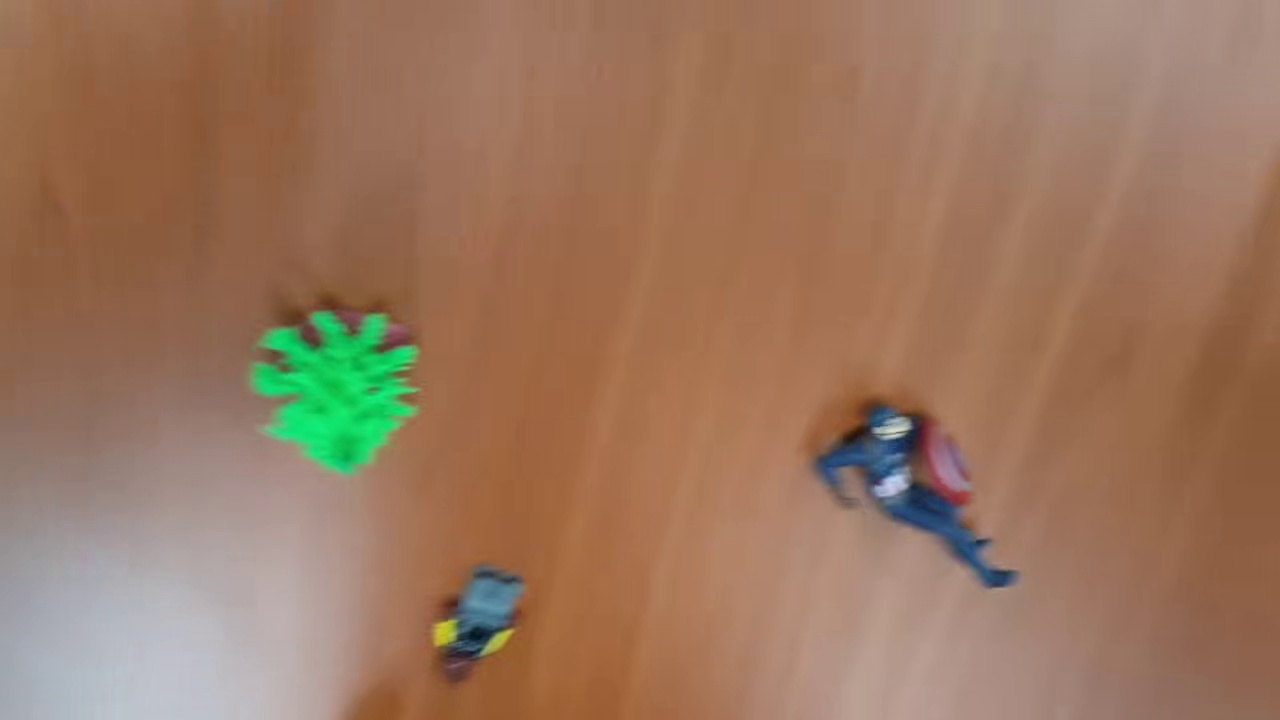people: (816, 404, 1023, 597), (428, 569, 525, 685)
tree: (244, 304, 424, 478)
